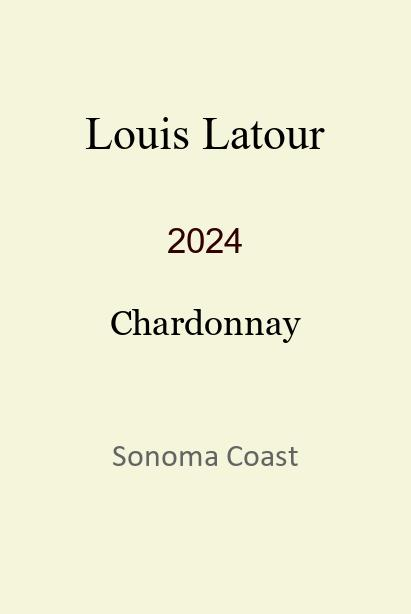brand: (85, 108, 325, 140)
region: (112, 442, 299, 462)
variety: (110, 302, 301, 336)
vintage: (167, 221, 243, 246)
